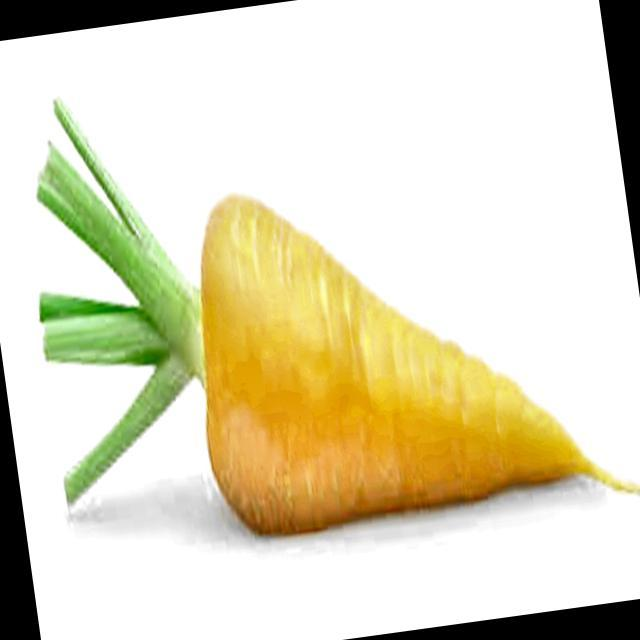carrot: (38, 101, 640, 534)
